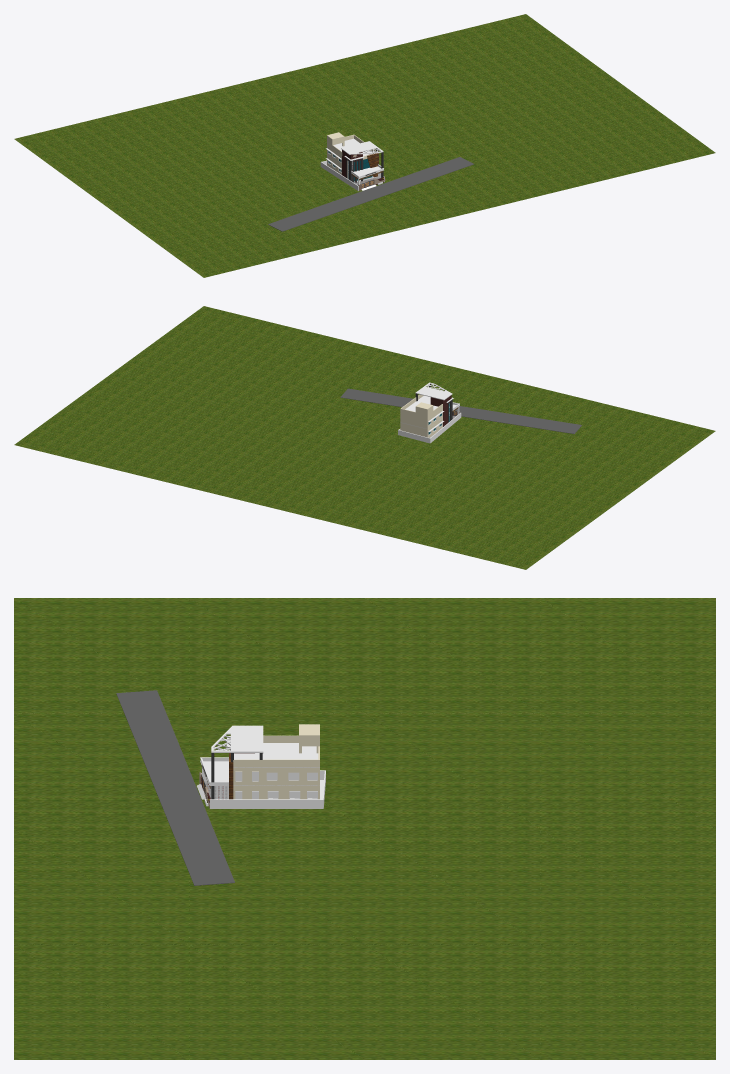
The model's file is hospital.glb.
3 renders of one model, top to bottom at view 1: azimuth 30°, elevation 25°; view 2: azimuth 150°, elevation 25°; view 3: azimuth 270°, elevation 25°, orthographic. The views are drawn at different scales.
Visible parts, largest first — view 1: Plane001, Box002; view 2: Plane001, Box002, Basic Wall Generic - 8" [184166]; view 3: Plane001, Box002, Basic Wall Generic - 8" [184192], Roof Soffit Generic - 4" 2 [190555], Basic Wall Generic - 8" [198834], Roof Soffit Generic - 4" [186440].
Part boxes in pixels (bbox=[...]): Plane001: bbox=[14, 14, 715, 277]; Box002: bbox=[268, 157, 473, 231]; Plane001: bbox=[14, 306, 715, 569]; Box002: bbox=[340, 388, 581, 434]; Basic Wall Generic - 8" [184166]: bbox=[400, 412, 426, 437]; Plane001: bbox=[14, 598, 715, 1059]; Box002: bbox=[116, 690, 234, 885]; Basic Wall Generic - 8" [184192]: bbox=[233, 767, 318, 799]; Roof Soffit Generic - 4" 2 [190555]: bbox=[211, 725, 263, 752]; Basic Wall Generic - 8" [198834]: bbox=[209, 799, 322, 808]; Roof Soffit Generic - 4" [186440]: bbox=[233, 743, 319, 767].
Bounding box in the file's own units: 164 × 10.01 × 105.
57 materials, 6 textured.
